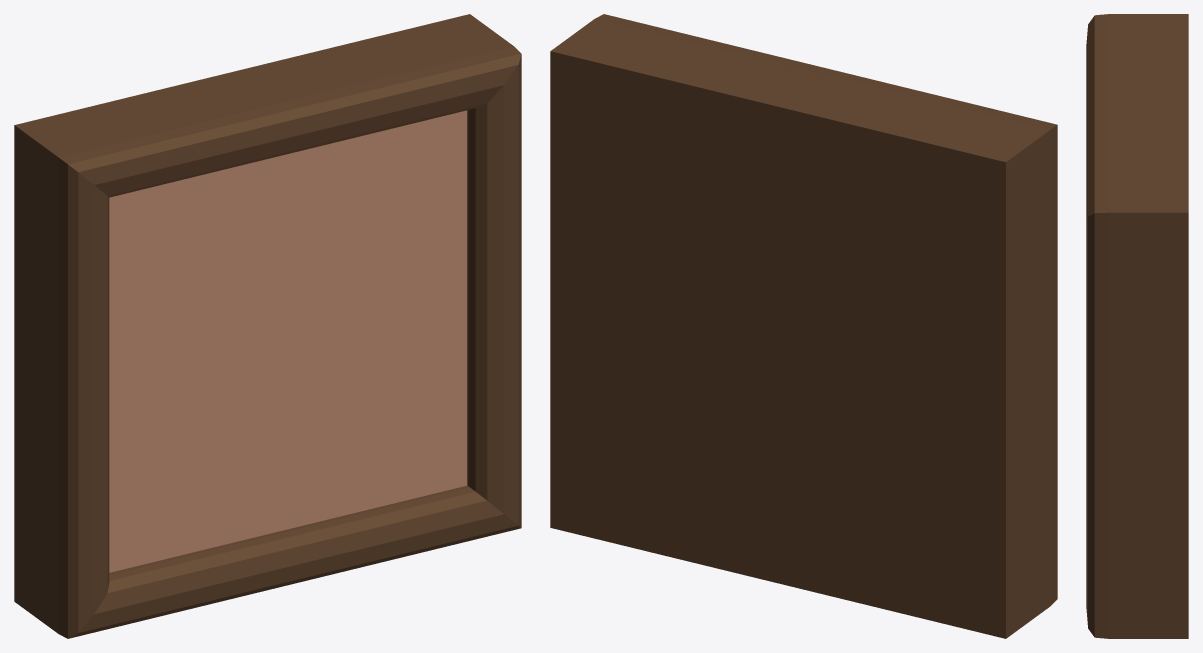
Rendered from low res item frame.fbx.
3 views of the same model, side by side, from view 1: azimuth 30°, elevation 25°; view 2: azimuth 150°, elevation 25°; view 3: azimuth 270°, elevation 25° (orthographic). The views are drawn at different scales.
Visible parts, largest first — view 1: Cube; view 2: Cube; view 3: Cube.
Boxes of the visible parts, <box> form: Cube: <box>14,14,521,638</box>; Cube: <box>550,14,1057,638</box>; Cube: <box>1086,14,1188,638</box>.
Size of the model in its own units: 200 by 200 by 43.46.
